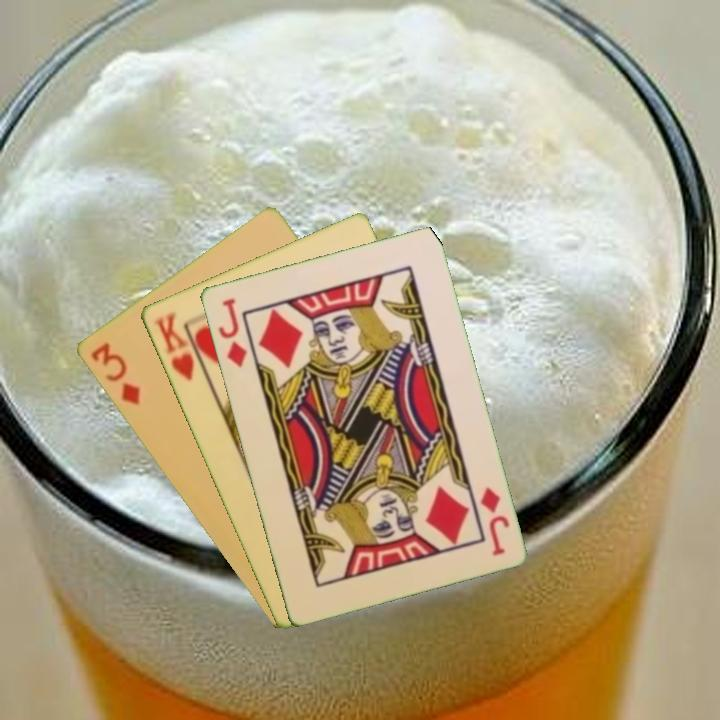3d: (86, 338, 143, 408)
Jd: (213, 294, 250, 370), (476, 482, 512, 559)
Kh: (149, 309, 209, 383)
